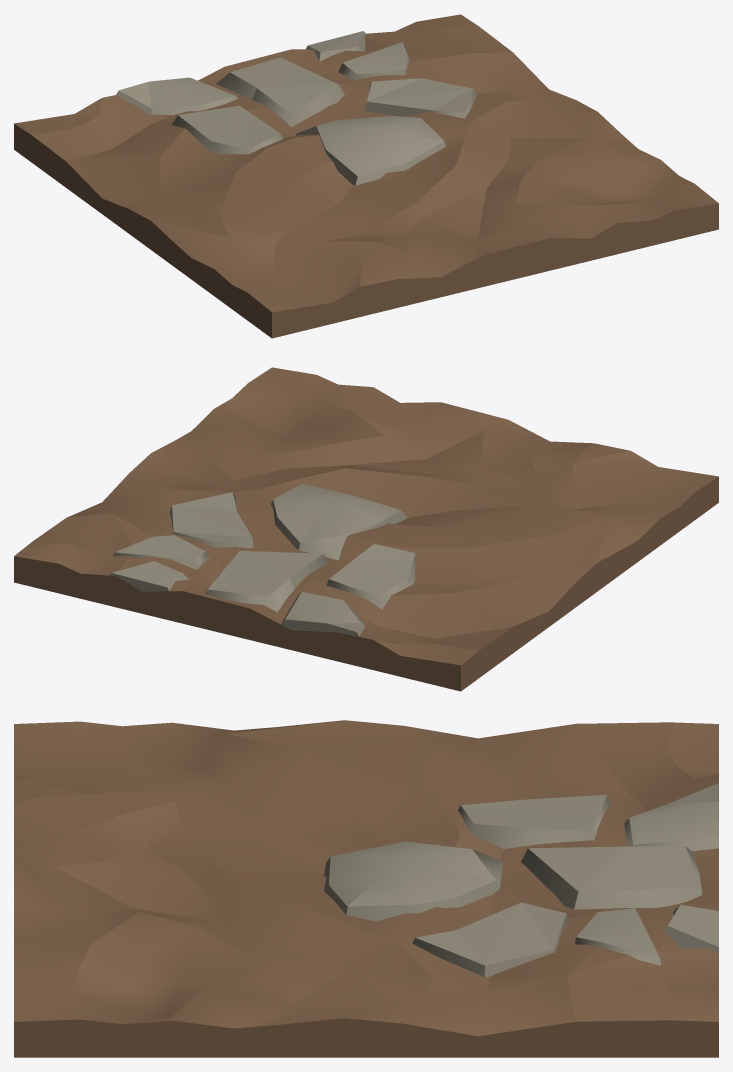
Rendered from Ground_Stone_Path_Ending_B.glb.
3 views of the same model, one above another, from view 1: azimuth 30°, elevation 25°; view 2: azimuth 150°, elevation 25°; view 3: azimuth 270°, elevation 25° (orthographic). The views are drawn at different scales.
Visible parts, largest first — view 1: Ground_Stone_Path_Ending_B; view 2: Ground_Stone_Path_Ending_B; view 3: Ground_Stone_Path_Ending_B.
Part boxes in pixels (<box>): Ground_Stone_Path_Ending_B: <box>14,14,718,338</box>; Ground_Stone_Path_Ending_B: <box>14,367,718,691</box>; Ground_Stone_Path_Ending_B: <box>14,720,718,1057</box>.
Bounding box in the file's own units: 1.47 × 0.1489 × 1.47.
